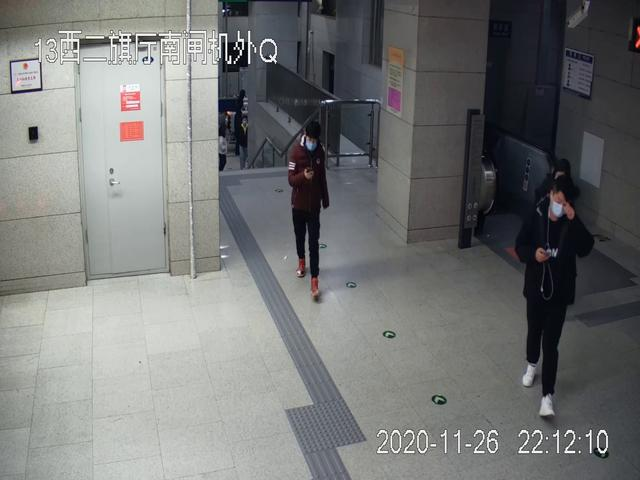person: (517, 177, 593, 418), (288, 120, 333, 301)
